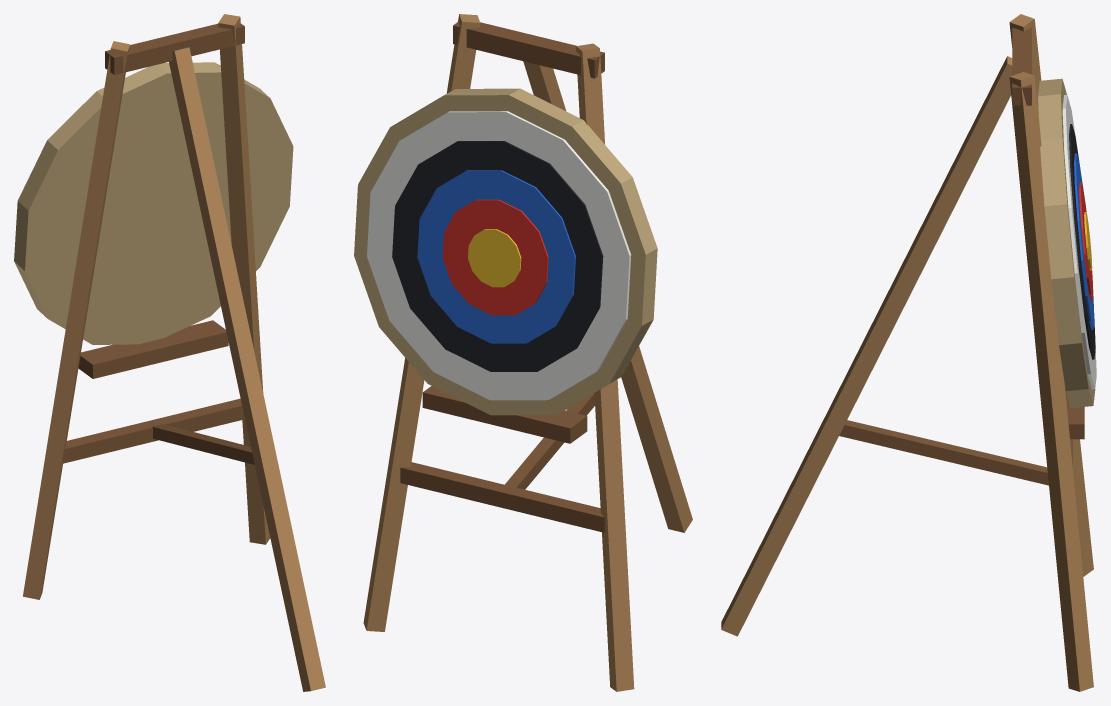
File: target_round.glb
3 renders of one model, left to right at view 1: azimuth 30°, elevation 25°; view 2: azimuth 150°, elevation 25°; view 3: azimuth 270°, elevation 25°, orthographic. The views are drawn at different scales.
Parts seen in each view (by area): view 1: Stand, Target; view 2: Target, Stand; view 3: Stand, Target.
Boxes of the visible parts, <box> form: Stand: <box>23,14,325,691</box>; Target: <box>14,62,293,344</box>; Target: <box>354,88,657,415</box>; Stand: <box>363,14,692,691</box>; Stand: <box>721,14,1093,691</box>; Target: <box>1038,78,1096,407</box>.
Bounding box in the file's own units: 0.9749 × 1.97 × 1.14.
